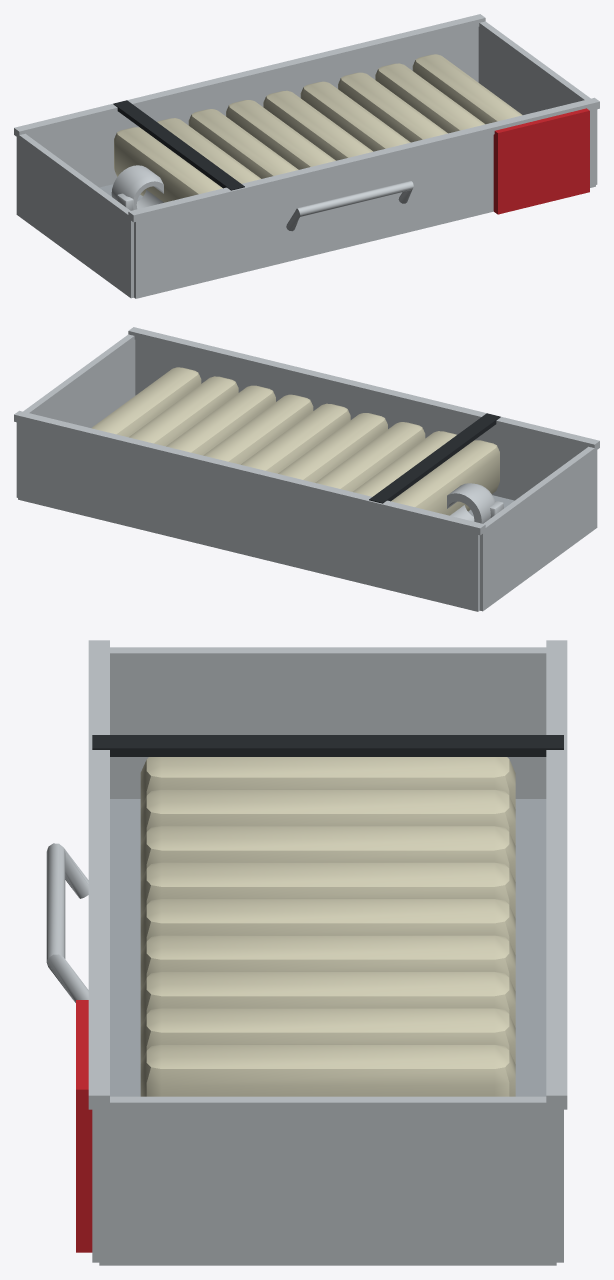
Rendered from ob_hose_basket_3.glb.
3 renders of one model, top to bottom at view 1: azimuth 30°, elevation 25°; view 2: azimuth 150°, elevation 25°; view 3: azimuth 270°, elevation 25°, orthographic. The views are drawn at different scales.
Parts seen in each view (by area): view 1: ob_hose_basket_3; view 2: ob_hose_basket_3; view 3: ob_hose_basket_3.
Boxes of the visible parts, x1=… form: ob_hose_basket_3: x1=14, y1=14, x2=599, y2=298; ob_hose_basket_3: x1=14, y1=327, x2=599, y2=611; ob_hose_basket_3: x1=46, y1=640, x2=567, y2=1265.
Size of the model in its own units: 0.91 by 0.16 by 0.44.
